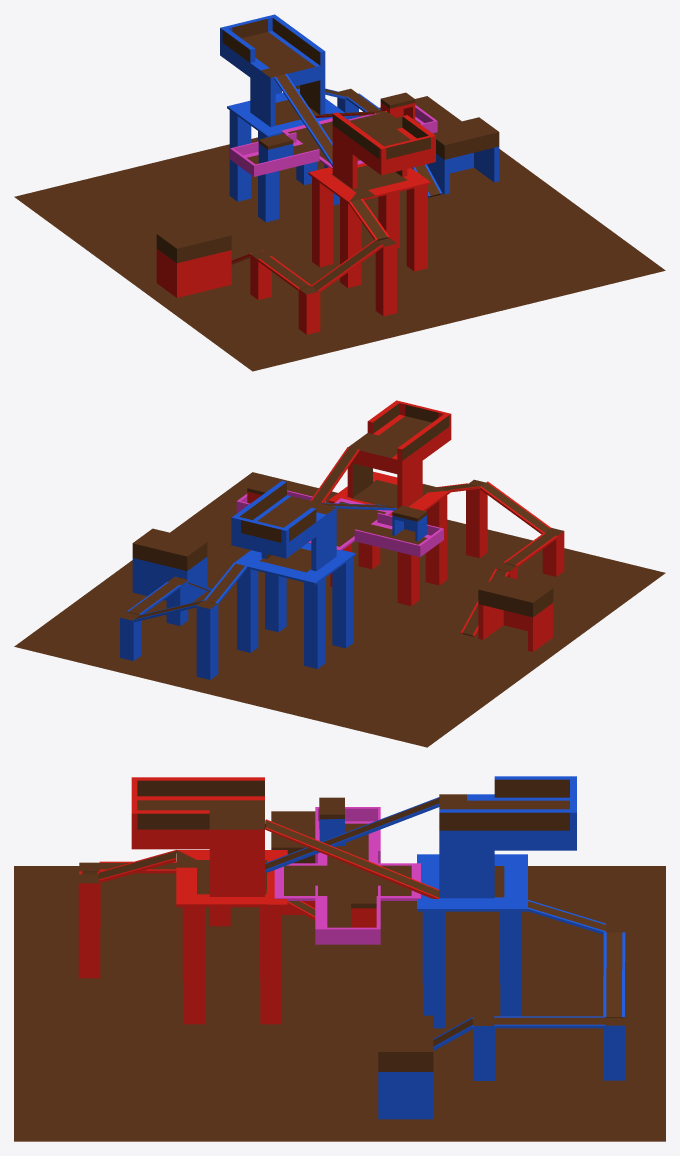
Rendered from fps_pvp_map_and_pve.glb.
The picture shows the model from 3 angles, top to bottom: view 1: azimuth 30°, elevation 25°; view 2: azimuth 150°, elevation 25°; view 3: azimuth 270°, elevation 25°; orthographic projection. The views are drawn at different scales.
Visible parts, largest first — view 1: Plane_33, Cube.012_12, Cube.025_25, Cube.028_28, Cube.027_27, Cube.026_26, Cube.023_23, Cube.018_18, Cube.017_17, Cube.010_10, Cube.015_15, Cube.016_16 (+11 smaller); view 2: Plane_33, Cube.025_25, Cube.012_12, Cube.028_28, Cube.027_27, Cube.026_26, Cube.010_10, Cube.005_5, Cube.023_23, Cube.006_6, Cube.003_3, Cube.002_2 (+14 smaller); view 3: Plane_33, Cube.025_25, Cube.012_12, Cube.026_26, Cube.027_27, Cube.010_10, Cube.023_23, Cube.018_18, Cube.019_19, Cube.004_4, Cube.015_15, Cube.003_3 (+11 smaller).
Part boxes in pixels (left/top/right/bottom): Plane_33: left=14, top=96, right=665, bottom=371; Cube.012_12: left=220, top=14, right=325, bottom=127; Cube.025_25: left=332, top=112, right=435, bottom=188; Cube.028_28: left=156, top=220, right=231, bottom=297; Cube.027_27: left=427, top=117, right=499, bottom=194; Cube.026_26: left=230, top=105, right=437, bottom=176; Cube.023_23: left=308, top=163, right=430, bottom=203; Cube.018_18: left=406, top=185, right=427, bottom=271; Cube.017_17: left=312, top=177, right=333, bottom=267; Cube.010_10: left=227, top=88, right=349, bottom=137; Cube.015_15: left=375, top=238, right=396, bottom=316; Cube.016_16: left=340, top=198, right=361, bottom=287; Plane_33: left=14, top=472, right=665, bottom=747; Cube.025_25: left=347, top=400, right=451, bottom=508; Cube.012_12: left=231, top=480, right=336, bottom=571; Cube.028_28: left=478, top=574, right=553, bottom=651; Cube.027_27: left=132, top=528, right=207, bottom=603; Cube.026_26: left=236, top=490, right=443, bottom=557; Cube.010_10: left=234, top=543, right=355, bottom=584; Cube.005_5: left=304, top=578, right=325, bottom=668; Cube.023_23: left=328, top=471, right=450, bottom=515; Cube.006_6: left=332, top=557, right=353, bottom=648; Cube.003_3: left=237, top=568, right=258, bottom=652; Cube.002_2: left=196, top=600, right=218, bottom=679; Plane_33: left=14, top=866, right=665, bottom=1141; Cube.025_25: left=131, top=777, right=264, bottom=896; Cube.012_12: left=439, top=776, right=576, bottom=898; Cube.026_26: left=274, top=807, right=420, bottom=944; Cube.027_27: left=378, top=1015, right=433, bottom=1119; Cube.010_10: left=417, top=854, right=527, bottom=911; Cube.023_23: left=176, top=850, right=287, bottom=907; Cube.018_18: left=183, top=907, right=204, bottom=1024; Cube.019_19: left=260, top=907, right=281, bottom=1024; Cube.004_4: left=423, top=911, right=444, bottom=1028; Cube.015_15: left=78, top=874, right=100, bottom=978; Cube.003_3: left=500, top=911, right=521, bottom=1016.
Bounding box in the file's own units: 60.41 × 21.34 × 60.41.
